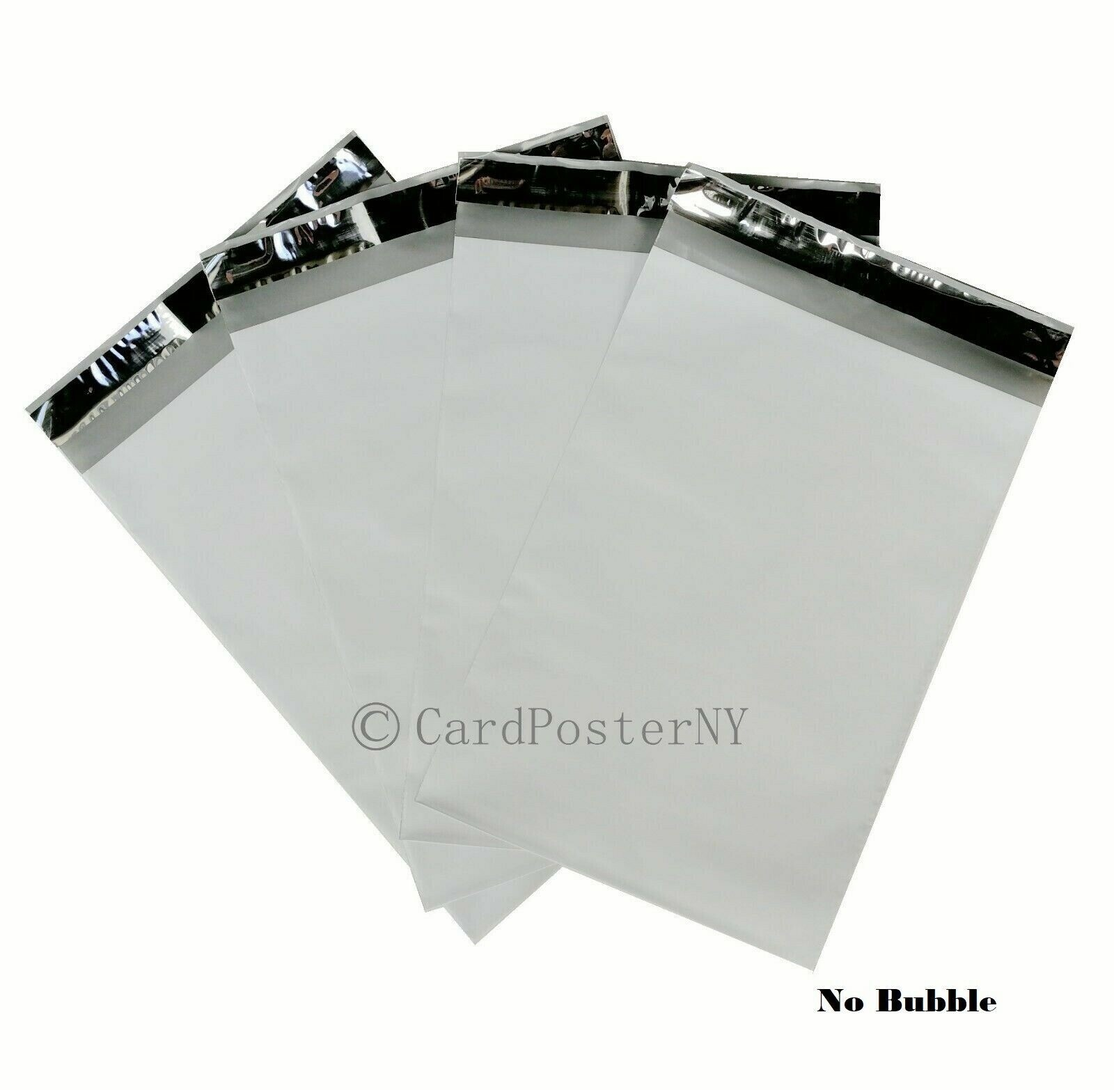Parcel: (417, 160, 1081, 970), (24, 140, 562, 938), (400, 150, 885, 847), (204, 121, 620, 912)
